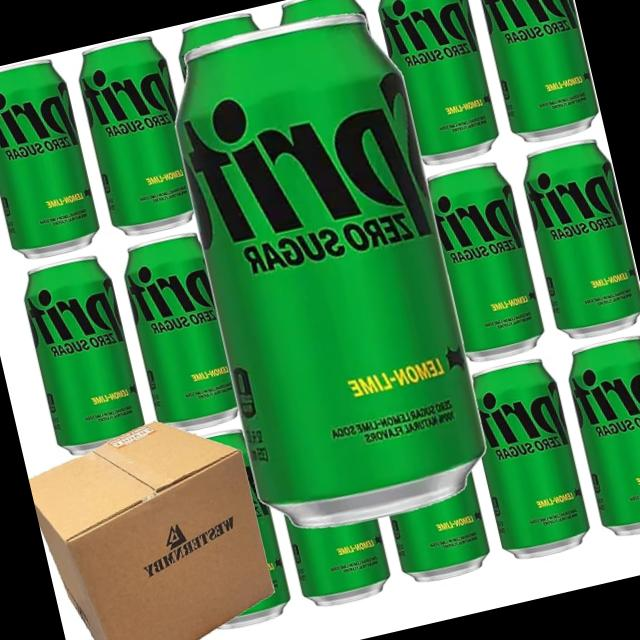sprite: (170, 49, 494, 529), (56, 28, 208, 238), (421, 165, 556, 384), (506, 129, 640, 349), (459, 360, 597, 558), (14, 261, 150, 452), (375, 0, 510, 185), (0, 64, 111, 273), (120, 252, 236, 429), (475, 0, 599, 152), (560, 337, 640, 540)
